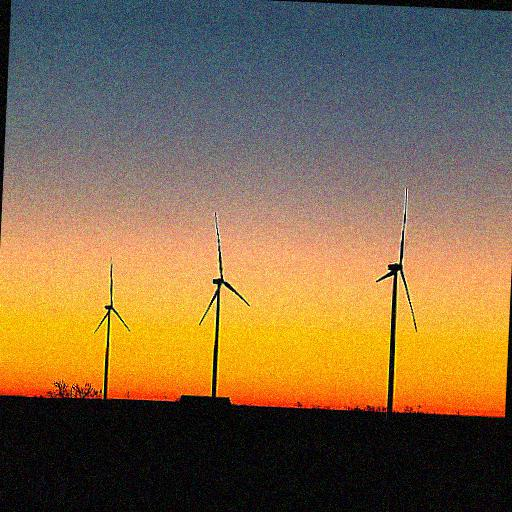wind turbine: (373, 187, 419, 413), (198, 211, 249, 401), (92, 256, 132, 400)
